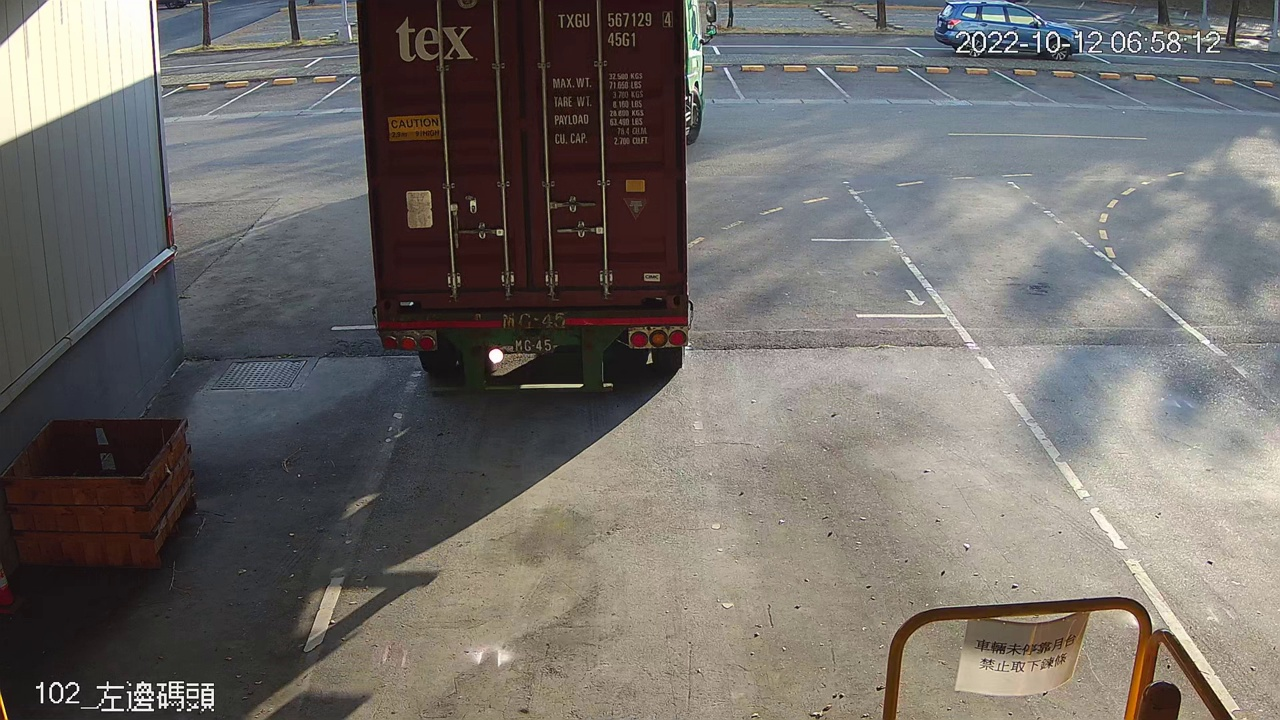container: (549, 6, 678, 51)
